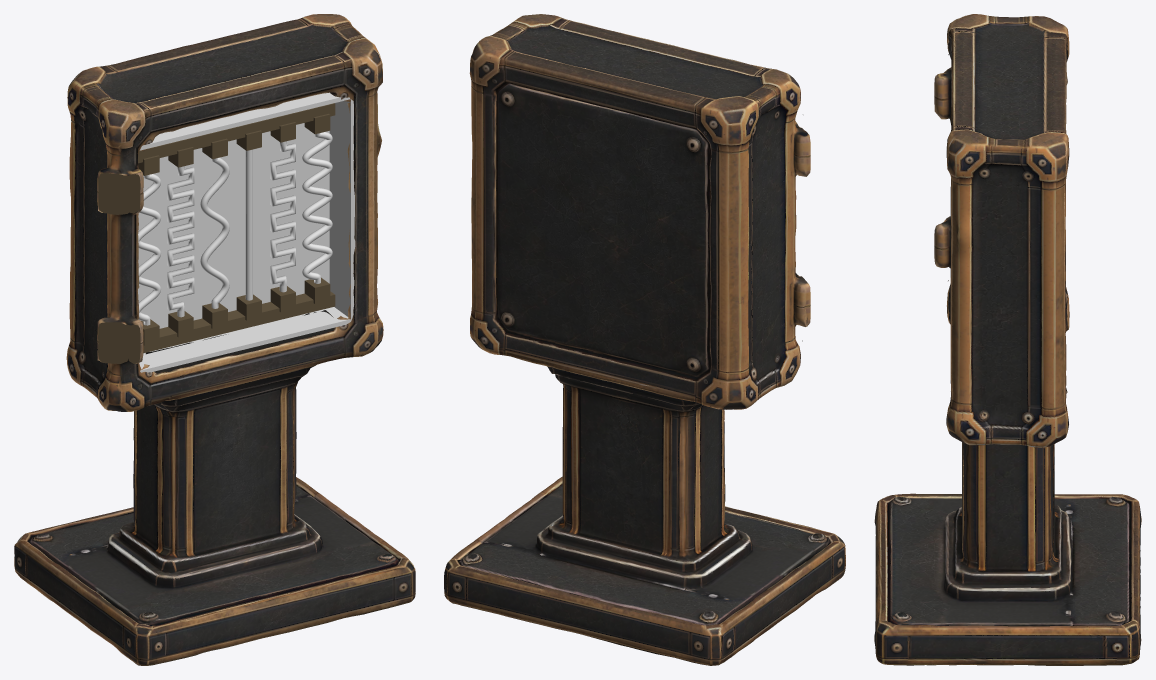
The model's file is R04_CableConsole_Wire6.fbx.
3 views of the same model, side by side, from view 1: azimuth 30°, elevation 25°; view 2: azimuth 150°, elevation 25°; view 3: azimuth 270°, elevation 25° (orthographic).
Visible parts, largest first — view 1: Console_Body, Wire_Backplate, Wire_Tray_R, Wire_Tray_B, Wire_Green, Wire_BusBar_Bottom, Wire_Tray_T, Wire_SkyBlue, Wire_BusBar, Wire_Black, Wire_Red, Wire_Orange (+1 smaller); view 2: Console_Body; view 3: Console_Body.
Part boxes in pixels (x1,y1,x2,y2): Console_Body: [14, 14, 415, 665]; Wire_Backplate: [138, 123, 329, 328]; Wire_Tray_R: [329, 99, 355, 320]; Wire_Tray_B: [139, 307, 350, 372]; Wire_Green: [167, 166, 194, 317]; Wire_BusBar_Bottom: [143, 291, 335, 353]; Wire_Tray_T: [140, 92, 350, 150]; Wire_SkyBlue: [302, 132, 332, 283]; Wire_BusBar: [138, 103, 335, 163]; Wire_Black: [270, 141, 295, 292]; Wire_Red: [200, 157, 229, 308]; Wire_Orange: [138, 174, 160, 325]; Console_Body: [444, 14, 845, 665]; Console_Body: [874, 14, 1141, 665].
Bounding box in the file's own units: 56.92 × 97.88 × 45.14.
